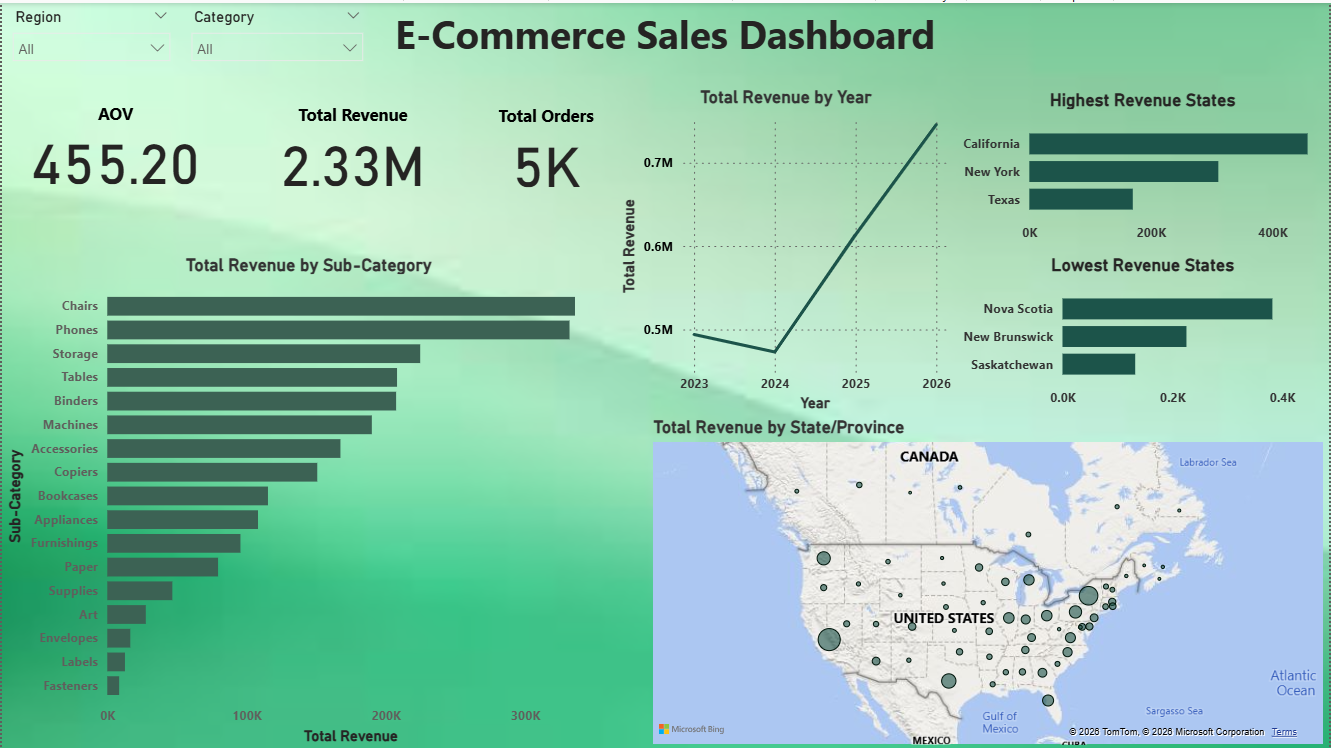

The dashboard page shown, as its layout file describes it:
{"tool":"powerbi","page":{"name":"Page 1","canvas":[1280,720],"ordinal":0},"visuals":[{"type":"slicer","fields":{"Values":["samplesuperstore.Region"]},"box":[0,0,172.5,66.4],"z":0},{"type":"slicer","fields":{"Values":["samplesuperstore.Category"]},"box":[172.5,0,185.8,66.4],"z":1000},{"type":"cardVisual","fields":{"Data":["samplesuperstore.AOV"]},"box":[0,66.4,219.6,149.6],"z":2000},{"type":"cardVisual","fields":{"Data":["samplesuperstore.Total Revenue"]},"box":[219.6,67.6,238.9,149.6],"z":3000},{"type":"cardVisual","fields":{"Data":["samplesuperstore.Total Orders"]},"box":[458.4,67.6,133.9,150.8],"z":4000},{"type":"lineChart","fields":{"Category":["samplesuperstore.Order Date.Variation.Date Hierarchy.Year","samplesuperstore.Order Date.Variation.Date Hierarchy.Quarter","samplesuperstore.Order Date.Variation.Date Hierarchy.Month"],"Y":["samplesuperstore.Total Revenue"]},"box":[592.9,81.4,328.6,318.6],"z":5000},{"type":"barChart","fields":{"Category":["samplesuperstore.Sub-Category"],"Y":["samplesuperstore.Total Revenue"]},"box":[0,242.5,592.4,477.8],"z":6000},{"type":"map","fields":{"Category":["samplesuperstore.State/Province"],"Size":["samplesuperstore.Total Revenue"]},"box":[623.7,399.3,656.3,320.9],"z":7000},{"type":"textbox","box":[358.3,0,563.4,67.6],"z":8000},{"type":"clusteredBarChart","title":"Highest Revenue States","fields":{"Category":["samplesuperstore.State/Province"],"Y":["samplesuperstore.Total Revenue"]},"box":[921.4,82.9,358.6,157.1],"z":9000},{"type":"clusteredBarChart","title":"Lowest Revenue States","fields":{"Category":["samplesuperstore.State/Province"],"Y":["samplesuperstore.Total Revenue"]},"box":[921.4,242.9,358.6,157.1],"z":10000}]}

Visuals, with their boxes in screenshot pixels (x1, y1, x2, y2), scaled from the page's 1280x720 canvas onto the 1331x748 screenshot:
slicer - samplesuperstore.Region: 0:0:179:69
slicer - samplesuperstore.Category: 179:0:373:69
cardVisual - samplesuperstore.AOV: 0:69:228:224
cardVisual - samplesuperstore.Total Revenue: 228:70:477:226
cardVisual - samplesuperstore.Total Orders: 477:70:616:227
lineChart - samplesuperstore.Order Date.Variation.Date Hierarchy.Year x samplesuperstore.Order Date.Variation.Date Hierarchy.Quarter: 617:85:958:416
barChart - samplesuperstore.Sub-Category x samplesuperstore.Total Revenue: 0:252:616:747
map - samplesuperstore.State/Province x samplesuperstore.Total Revenue: 649:415:1330:747
textbox: 373:0:958:70
"Highest Revenue States" clusteredBarChart: 958:86:1330:249
"Lowest Revenue States" clusteredBarChart: 958:252:1330:416
